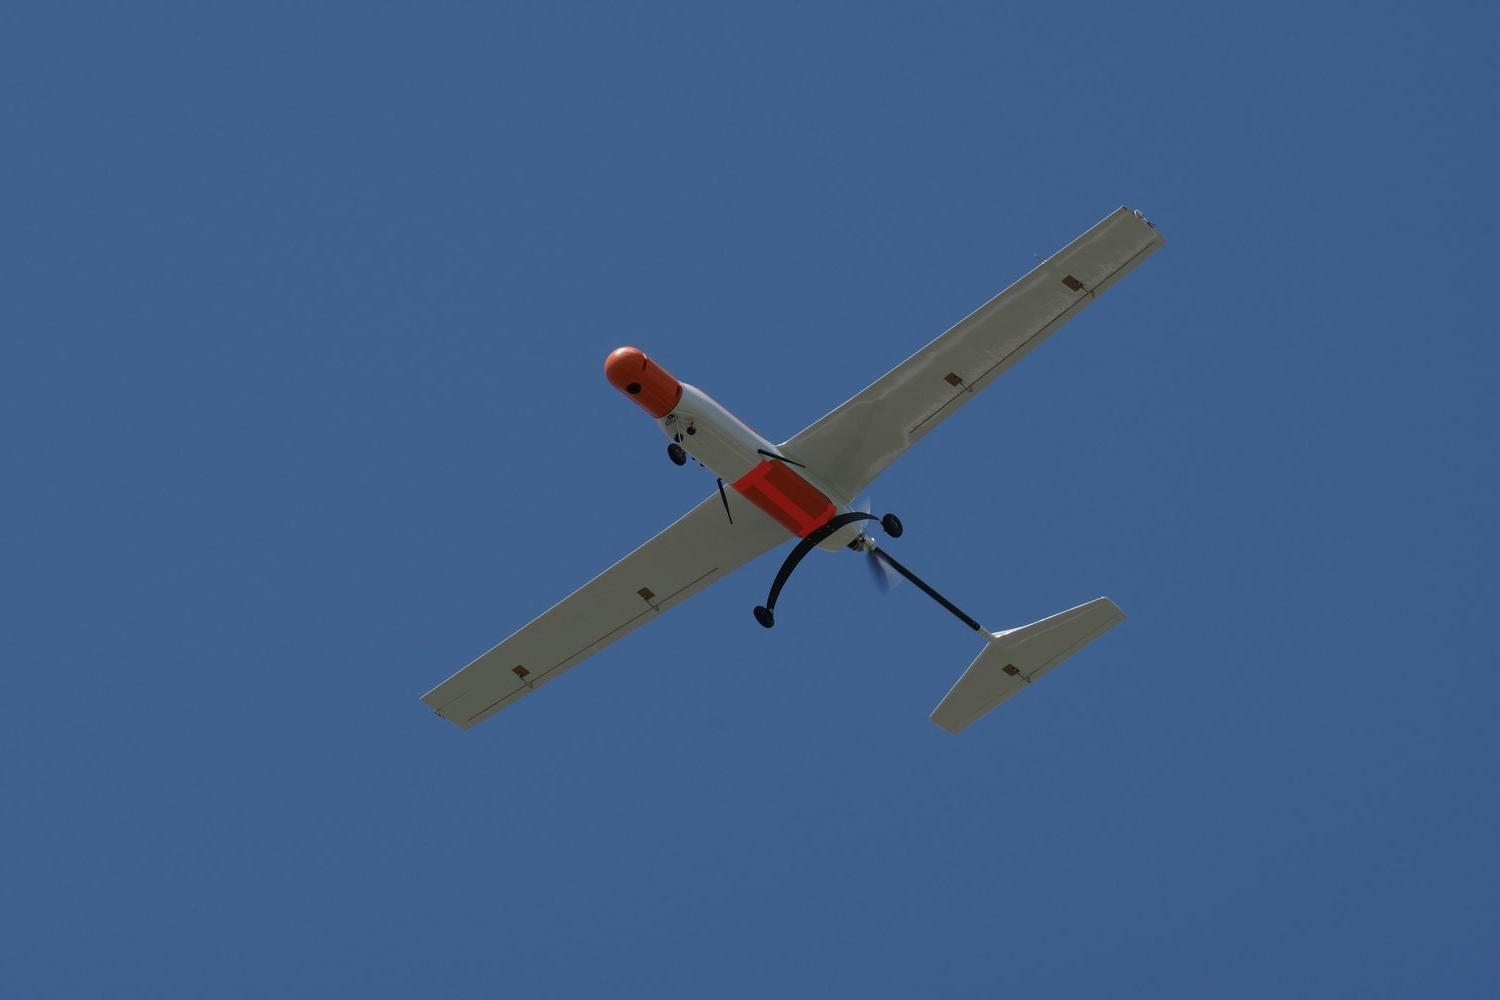Airplane: (377, 184, 1210, 769)
